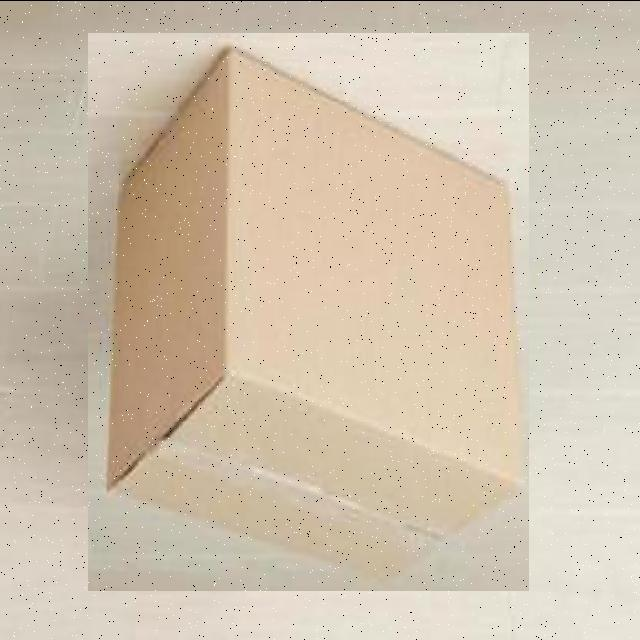normal: (88, 32, 529, 590)
